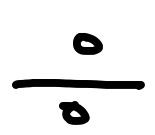div: (12, 33, 145, 126)
